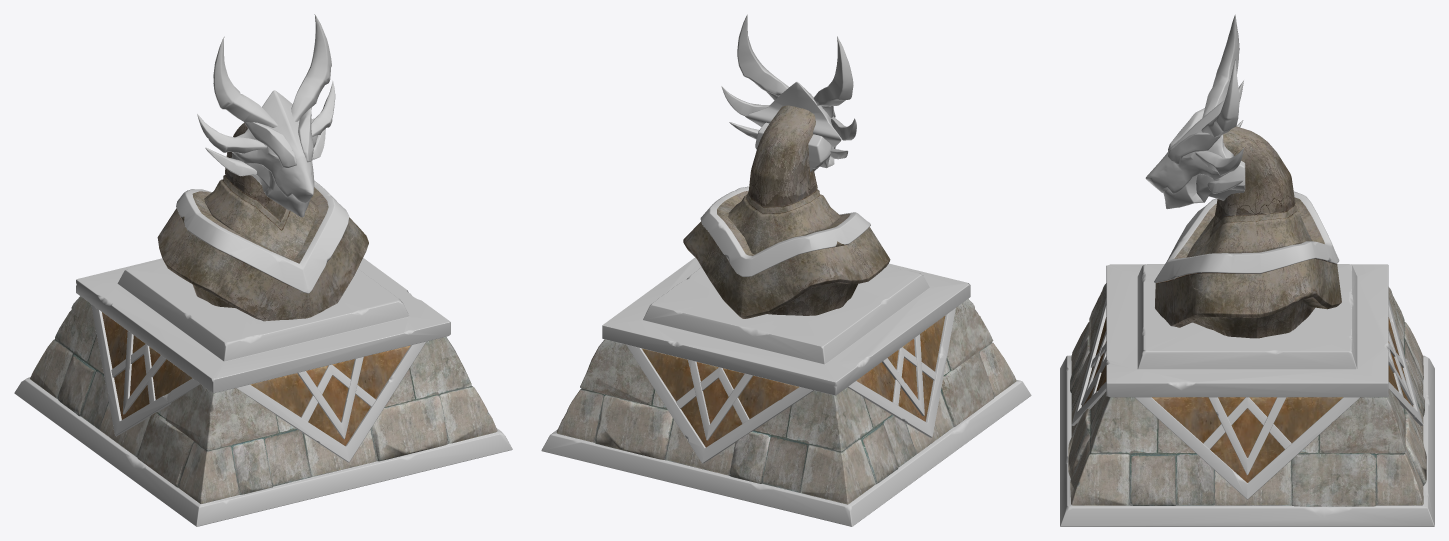
3 renders of one model, left to right at view 1: azimuth 30°, elevation 25°; view 2: azimuth 150°, elevation 25°; view 3: azimuth 270°, elevation 25°, orthographic. The views are drawn at different scales.
Parts seen in each view (by area): view 1: SM_DK_Pyramid_Statue_01_LOD0; view 2: SM_DK_Pyramid_Statue_01_LOD0; view 3: SM_DK_Pyramid_Statue_01_LOD0.
Boxes of the visible parts, x1,y1,x2,y2 form: SM_DK_Pyramid_Statue_01_LOD0: [14, 14, 512, 526]; SM_DK_Pyramid_Statue_01_LOD0: [541, 14, 1031, 526]; SM_DK_Pyramid_Statue_01_LOD0: [1060, 14, 1434, 526].
Size of the model in its own units: 9.28 by 11.23 by 9.28.
